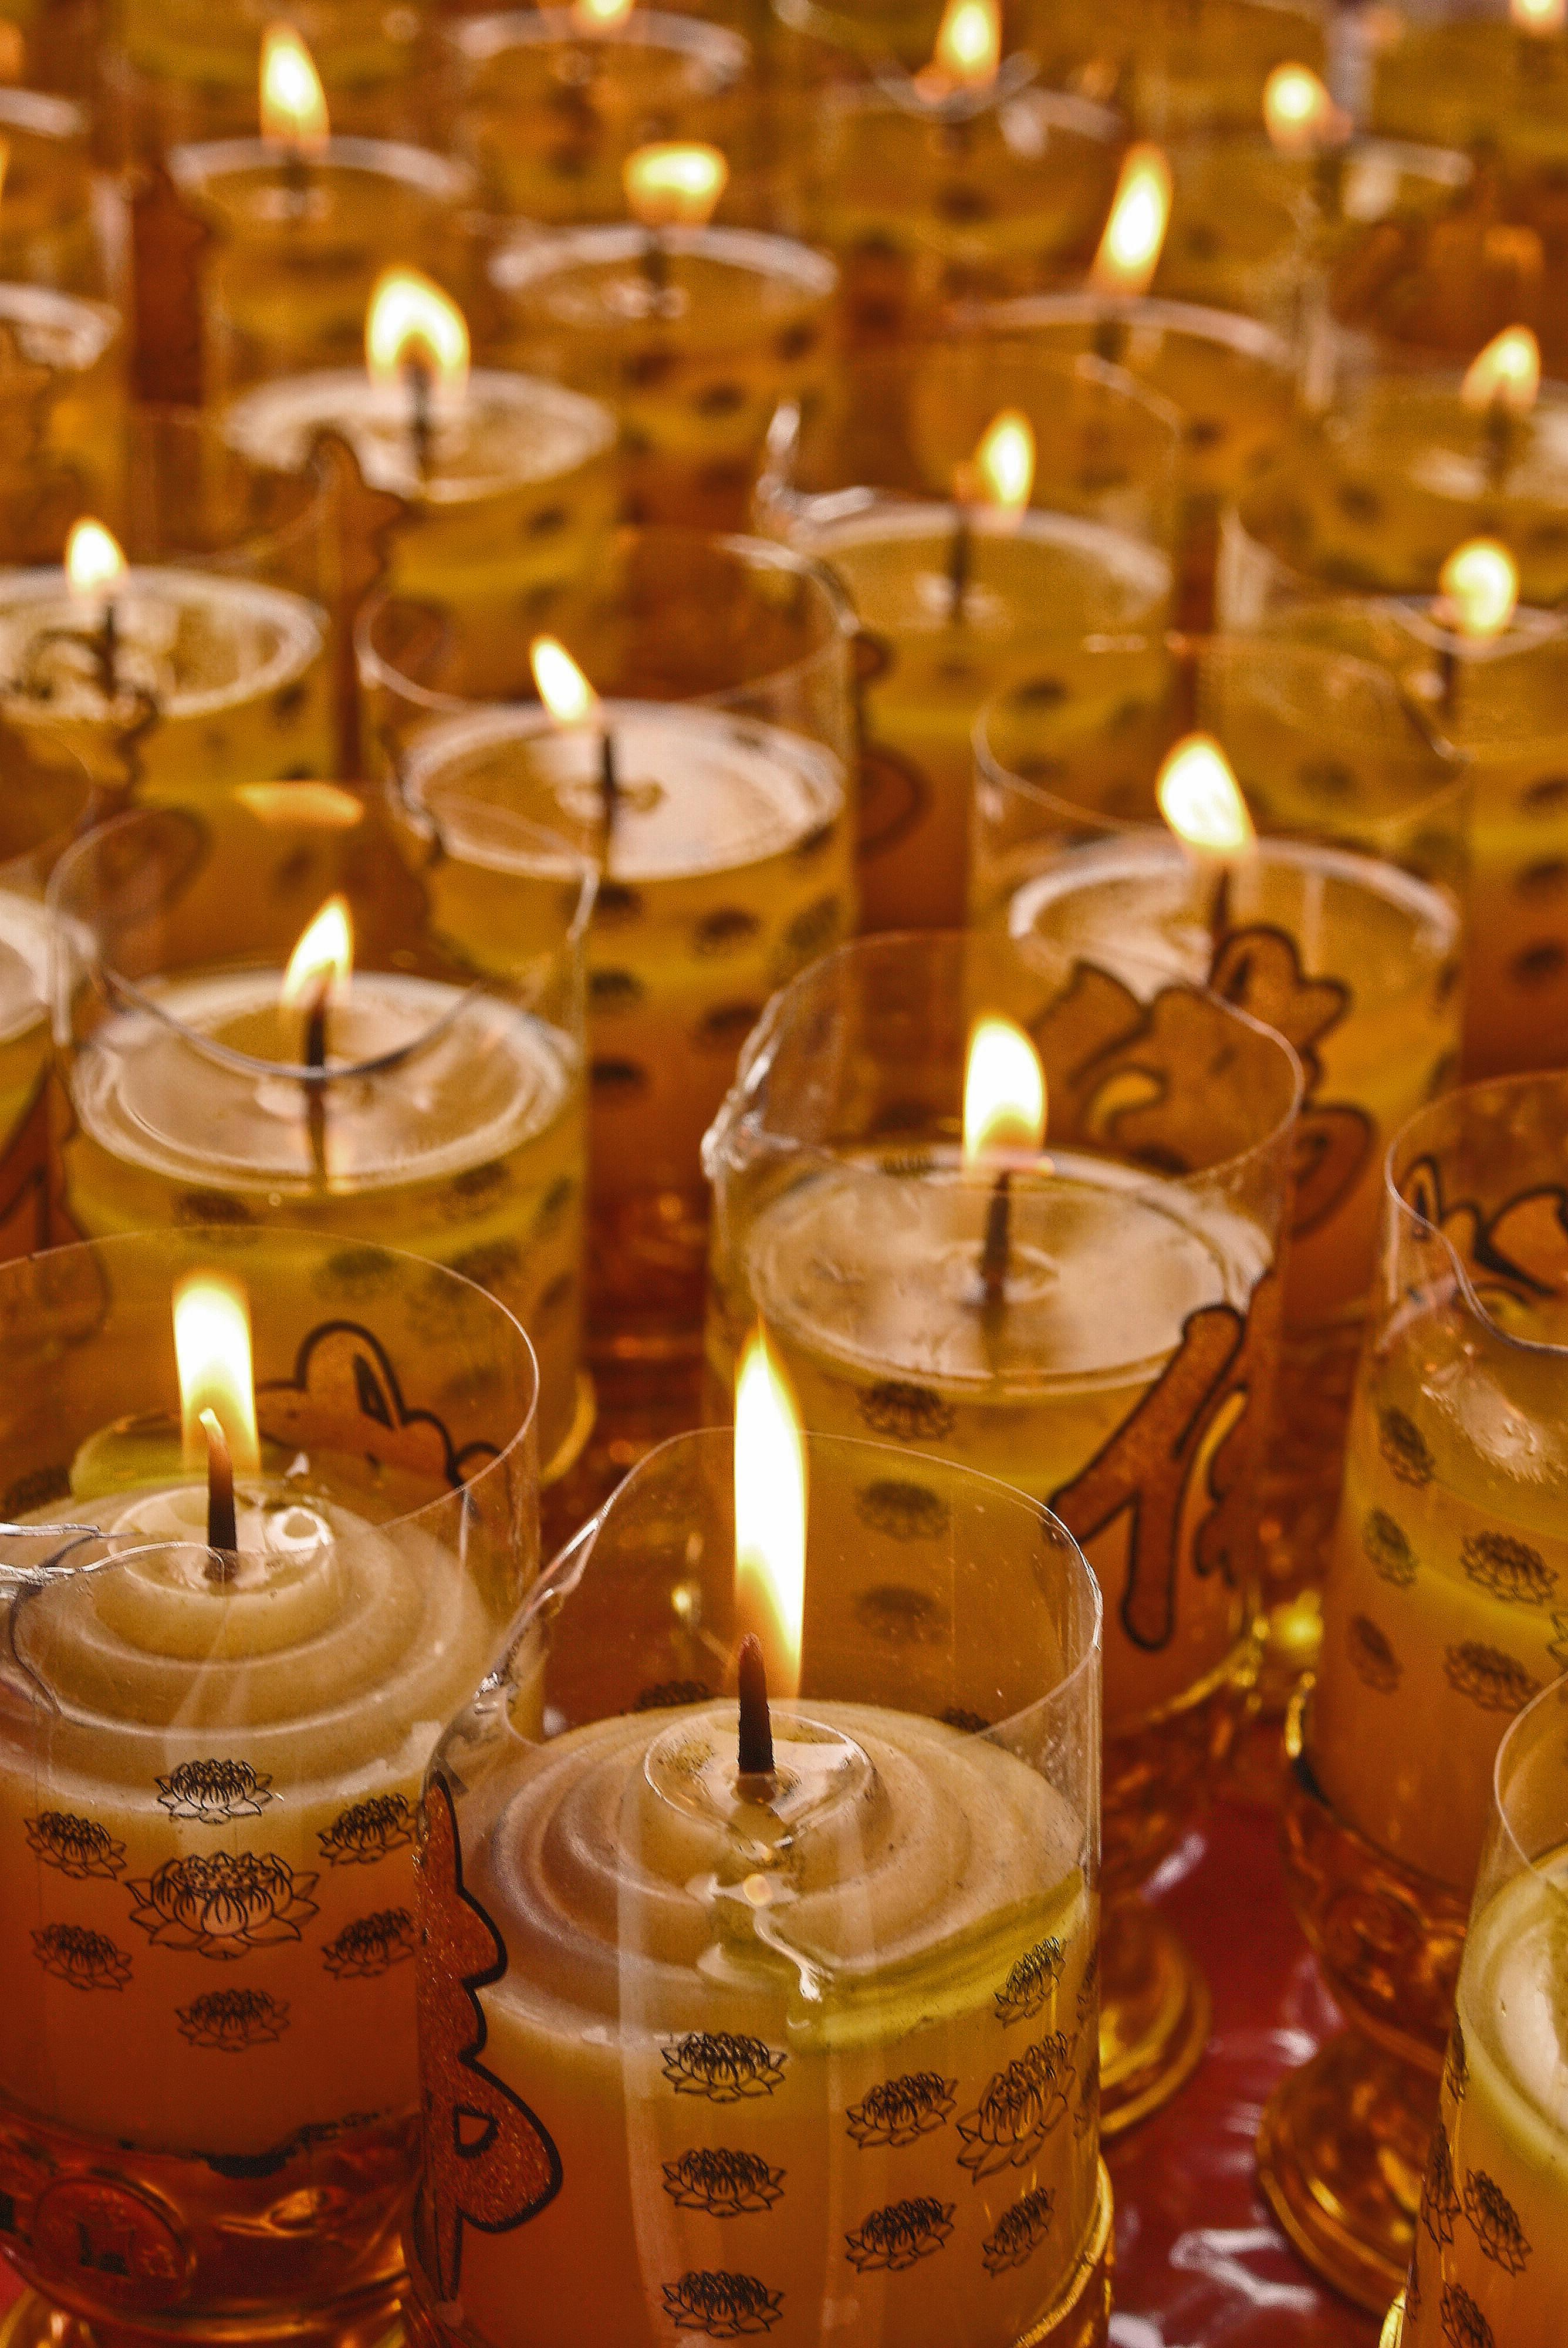Fire: (696, 1303, 831, 1711), (142, 1263, 282, 1538), (922, 994, 1076, 1195), (348, 259, 502, 429), (605, 112, 756, 264), (1134, 723, 1281, 871), (236, 19, 357, 199), (1081, 142, 1206, 308), (940, 394, 1069, 551), (1451, 311, 1568, 476), (1239, 49, 1370, 191), (479, 605, 619, 735), (1409, 513, 1529, 654), (276, 894, 371, 1045), (910, 2, 1041, 101), (47, 493, 147, 612)
